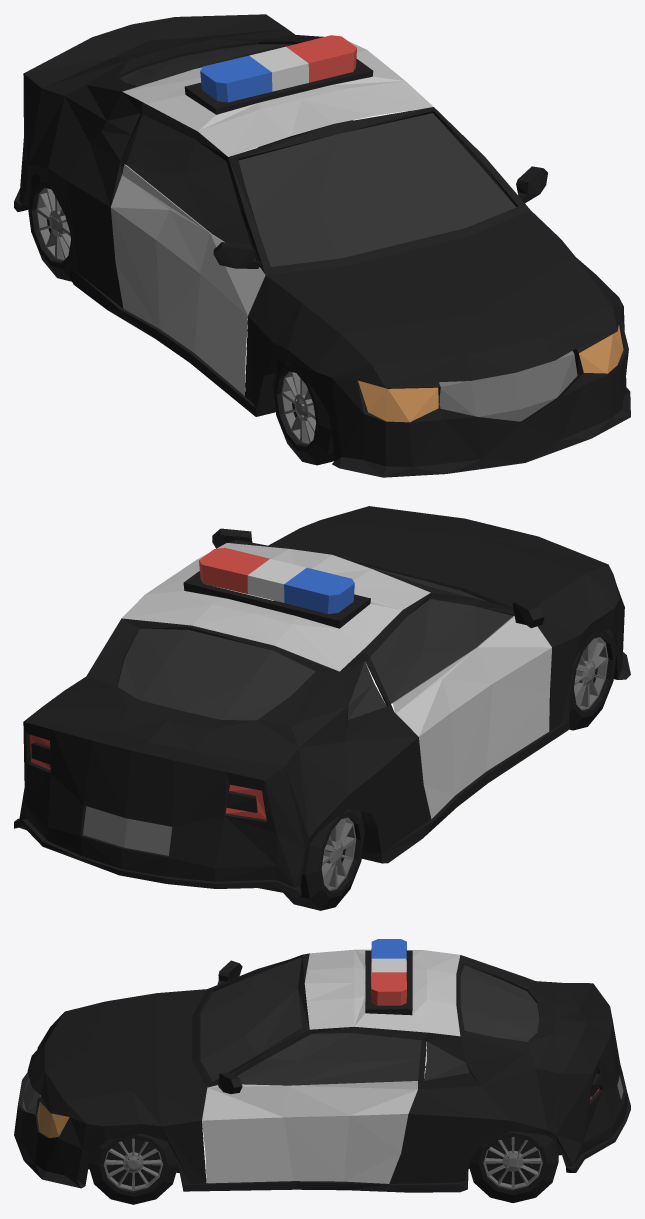
File: cop.glb
3 renders of one model, top to bottom at view 1: azimuth 30°, elevation 25°; view 2: azimuth 150°, elevation 25°; view 3: azimuth 270°, elevation 25°, orthographic. The views are drawn at different scales.
Visible parts, largest first — view 1: Cop_Cube.001; view 2: Cop_Cube.001; view 3: Cop_Cube.001.
Boxes of the visible parts, bbox=[...] form: Cop_Cube.001: bbox=[14, 14, 630, 477]; Cop_Cube.001: bbox=[14, 506, 630, 910]; Cop_Cube.001: bbox=[14, 939, 630, 1204].
Bounding box in the file's own units: 1.78 × 1.24 × 3.73.
Materials: 1 (1 with a texture image).
